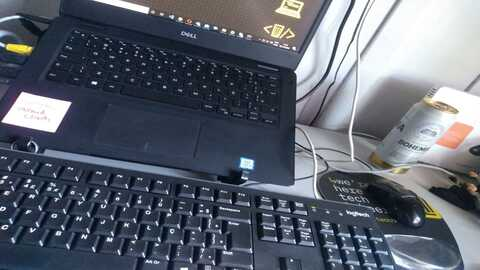bohemia: (367, 96, 456, 174)
